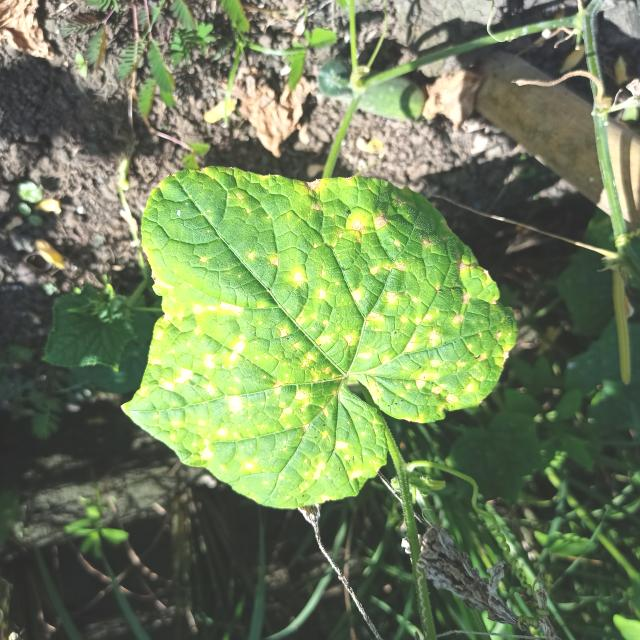disease_cucumber: (131, 170, 517, 496)
